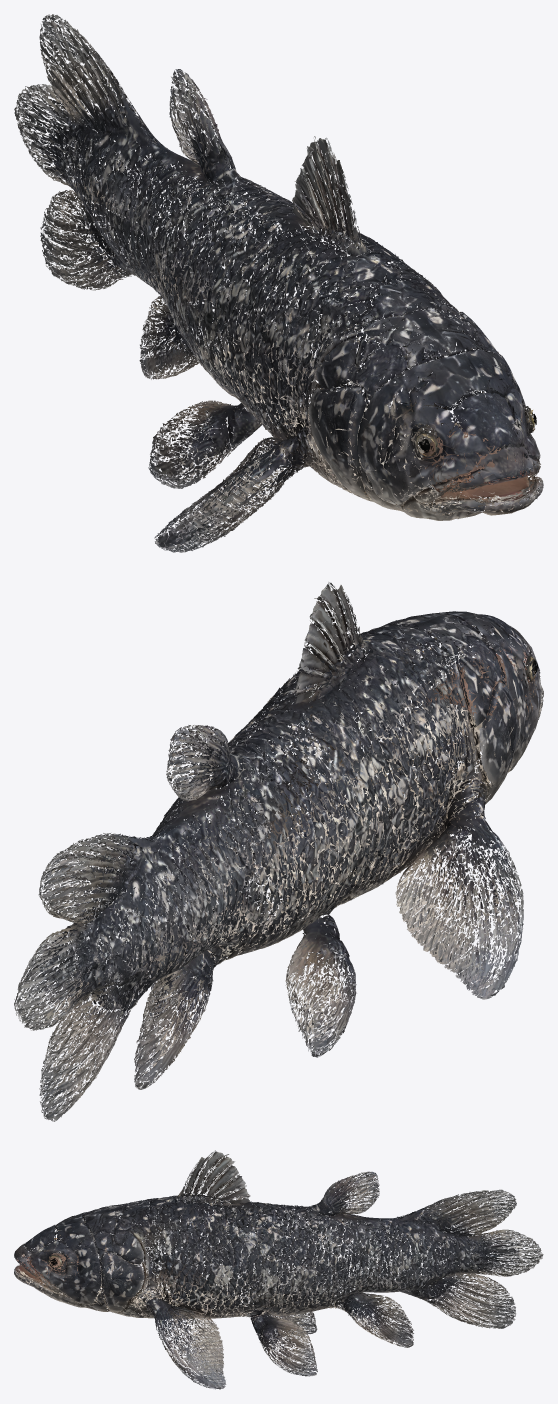
File: coelacanth.glb
3 views of the same model, one above another, from view 1: azimuth 30°, elevation 25°; view 2: azimuth 150°, elevation 25°; view 3: azimuth 270°, elevation 25° (orthographic). The views are drawn at different scales.
Parts seen in each view (by area): view 1: model; view 2: model; view 3: model.
Part boxes in pixels (x1,y1,x2,y2): model: (14,14,543,552); model: (14,582,543,1121); model: (14,1150,543,1389).
Size of the model in its own units: 0.7397 by 0.8104 by 1.9.
1 material, 1 textured.
